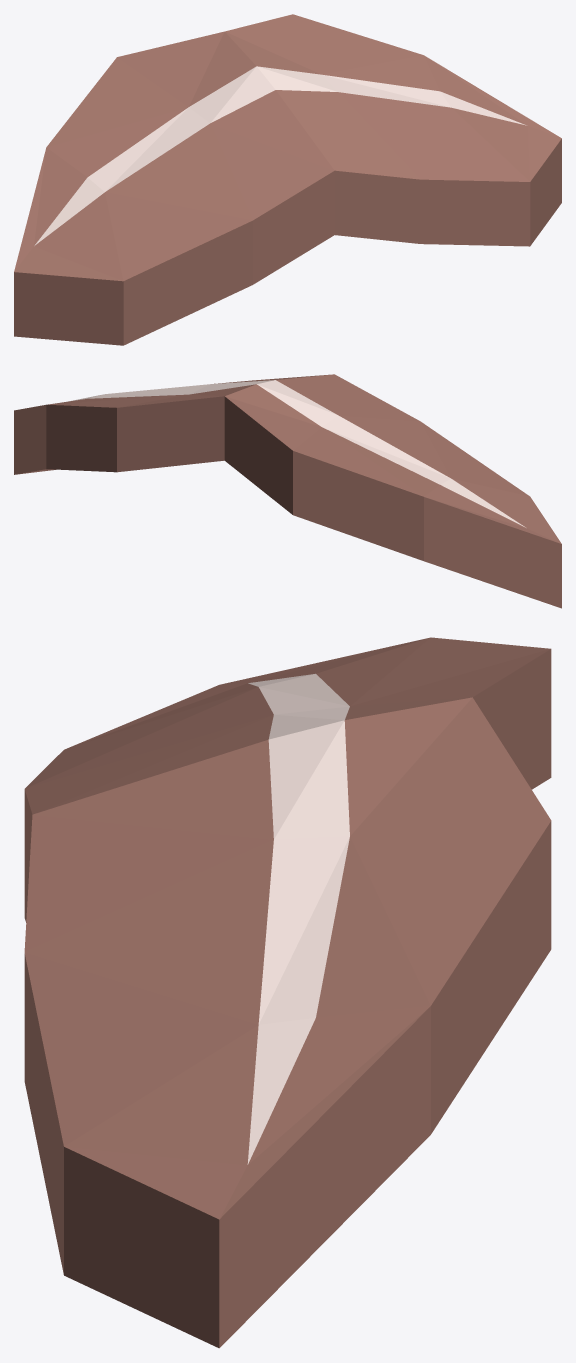
File: Mouth 03.FBX
3 renders of one model, top to bottom at view 1: azimuth 30°, elevation 25°; view 2: azimuth 150°, elevation 25°; view 3: azimuth 270°, elevation 25°, orthographic. The views are drawn at different scales.
Visible parts, largest first — view 1: Mouth 03; view 2: Mouth 03; view 3: Mouth 03.
Boxes of the visible parts, x1=… form: Mouth 03: x1=14, y1=14, x2=561, y2=345; Mouth 03: x1=14, y1=374, x2=561, y2=608; Mouth 03: x1=24, y1=637, x2=551, y2=1348.
Bounding box in the file's own units: 7.31 × 2.45 × 3.04.
Materials: 1 (1 with a texture image).
